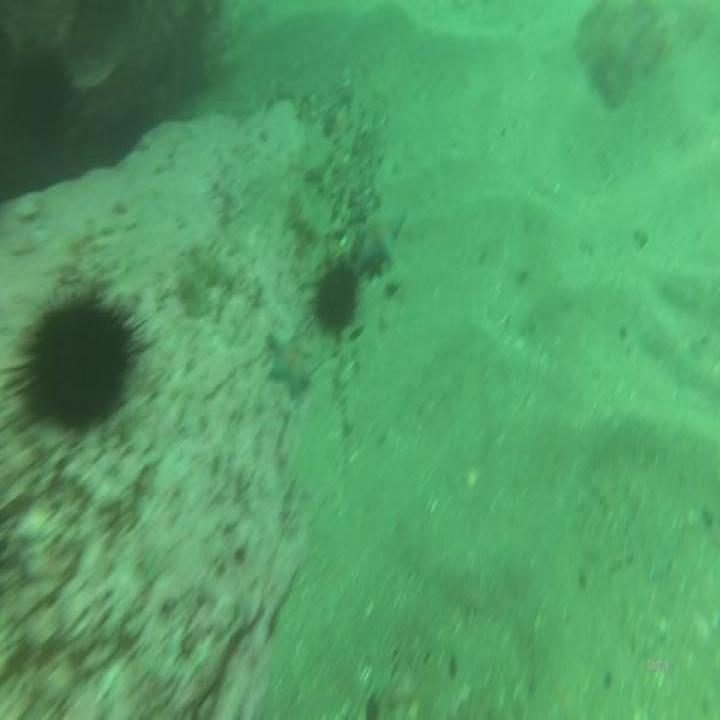echinus: (19, 284, 138, 437), (310, 256, 361, 341)
holothurian: (177, 236, 223, 318)
starfish: (266, 325, 321, 407), (352, 210, 408, 274)
